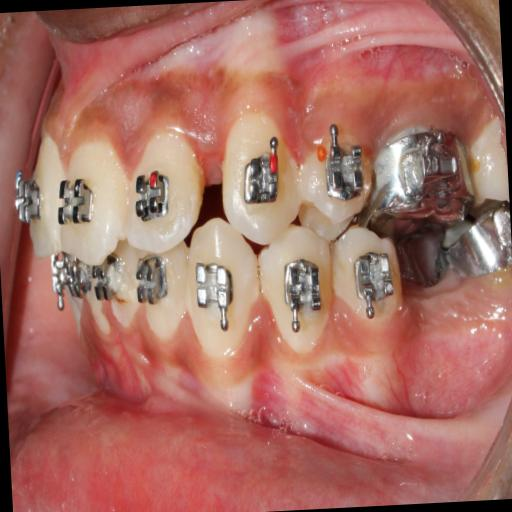correct_brace: (259, 222, 338, 360), (300, 146, 374, 240), (277, 250, 326, 317), (190, 251, 238, 314), (239, 148, 282, 210), (56, 172, 100, 231), (132, 168, 172, 226)
incorrect_brace: (126, 136, 208, 254), (324, 140, 366, 202)
